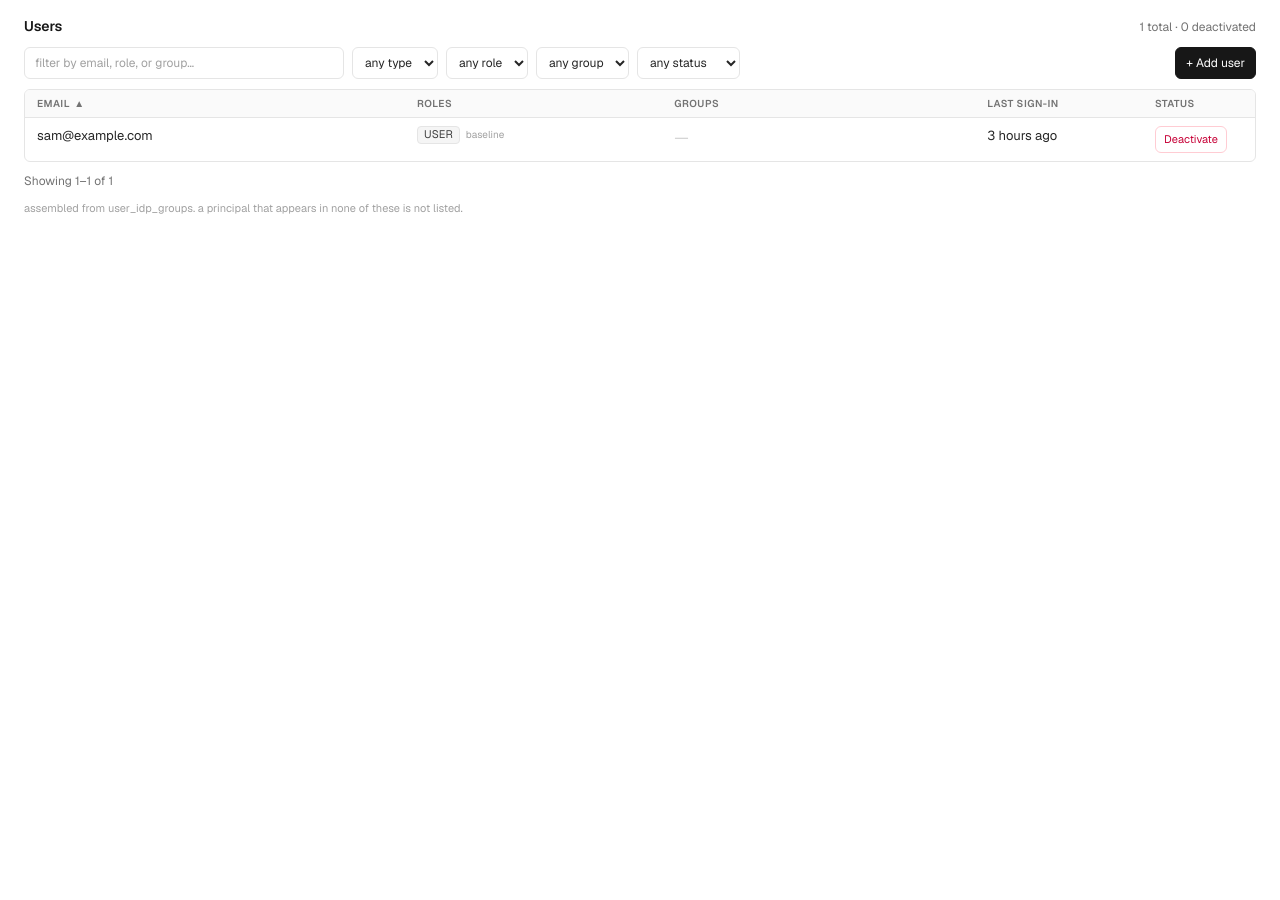
Test case: UsersManager › marks the modal aria-modal so global shortcut handlers stand down
Click the button "+ Add user": click(1216, 63) [1175,47,1256,79]
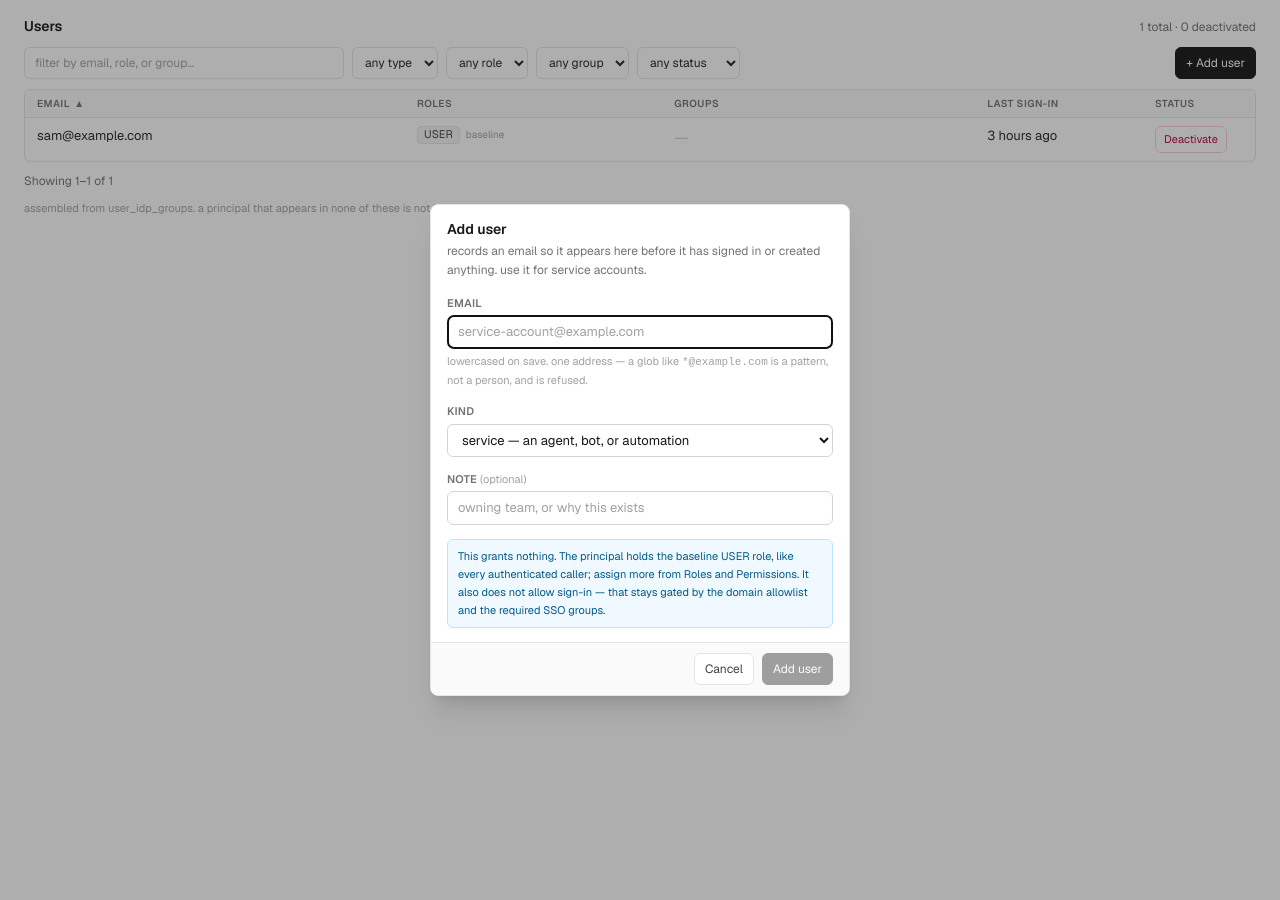
Result: the dialog is shown at [430,204,850,696]
